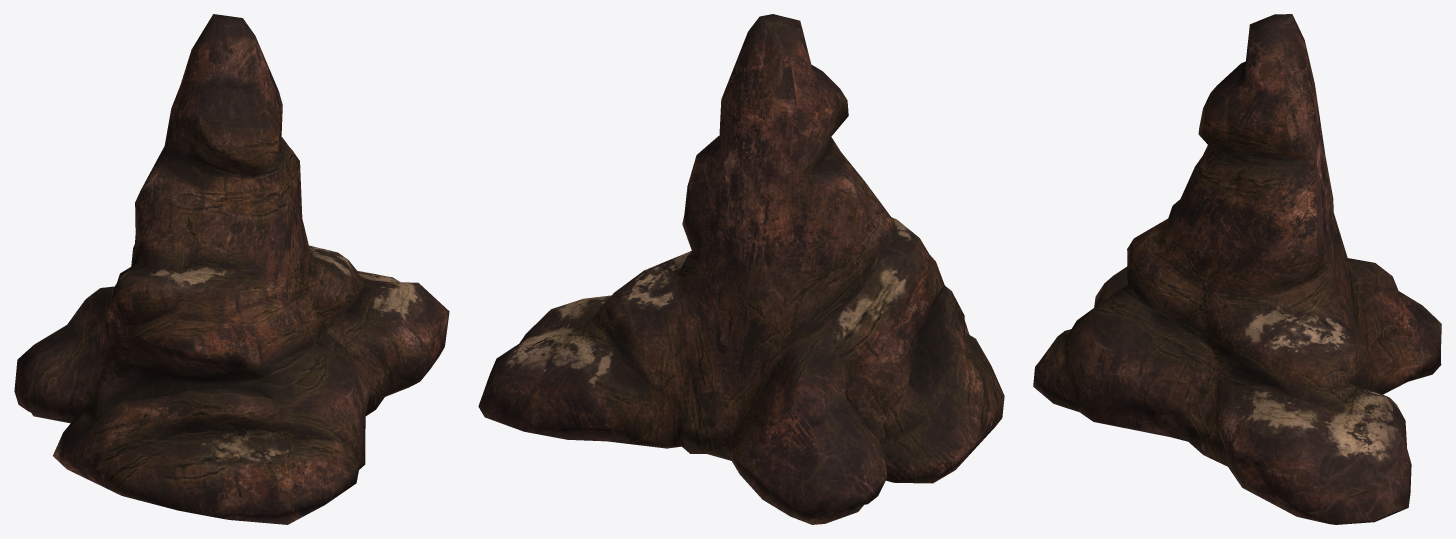
Rendered from rock_red_medium_pillar02.dae.
3 views of the same model, side by side, from view 1: azimuth 30°, elevation 25°; view 2: azimuth 150°, elevation 25°; view 3: azimuth 270°, elevation 25° (orthographic). The views are drawn at different scales.
Parts seen in each view (by area): view 1: Mesh; view 2: Mesh; view 3: Mesh.
Part boxes in pixels (left/top/right/bottom): Mesh: left=14, top=14, right=449, bottom=524; Mesh: left=478, top=14, right=1004, bottom=524; Mesh: left=1033, top=14, right=1441, bottom=524.
Size of the model in its own units: 12.43 by 11.71 by 10.76.
